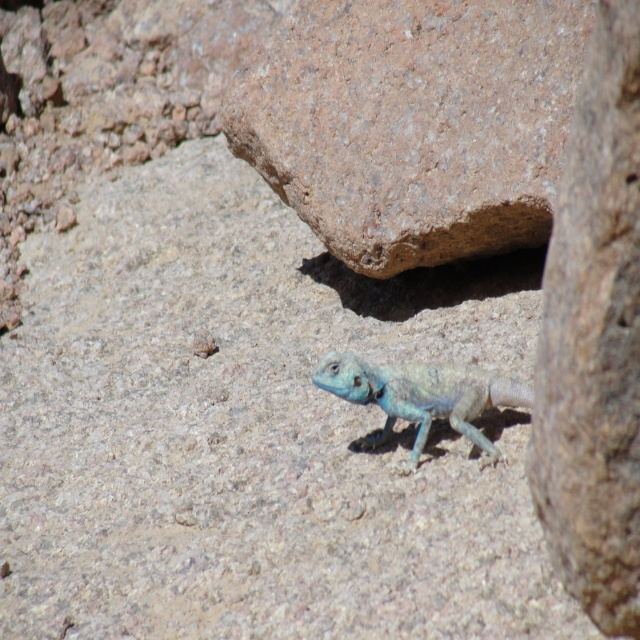Lizard: (311, 346, 538, 474)
